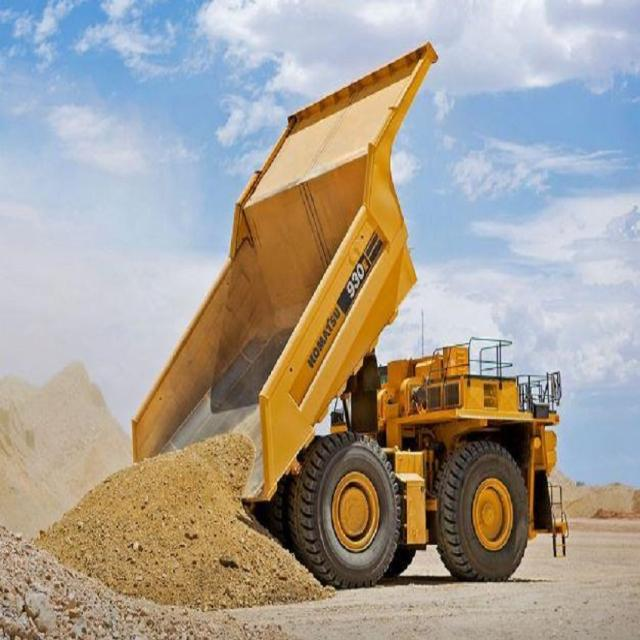dump_truck: (119, 40, 572, 592)
